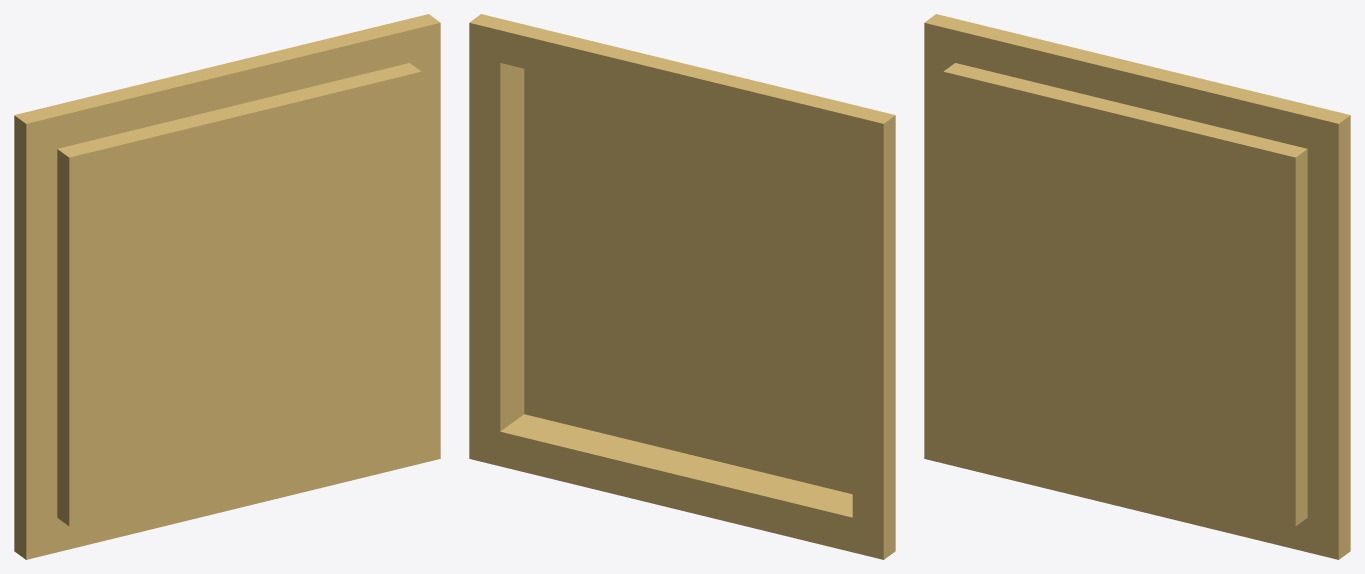
File: Industrial_New_Wall_Panel_Empty.fbx
The picture shows the model from 3 angles, left to right: view 1: azimuth 30°, elevation 25°; view 2: azimuth 150°, elevation 25°; view 3: azimuth 330°, elevation 25°; orthographic projection.
Visible parts, largest first — view 1: Cube; view 2: Cube; view 3: Cube.
Boxes of the visible parts, x1,y1,x2,y2 form: Cube: (14, 14, 440, 559); Cube: (469, 14, 895, 559); Cube: (924, 14, 1350, 559).
Size of the model in its own units: 200 by 201 by 20.
